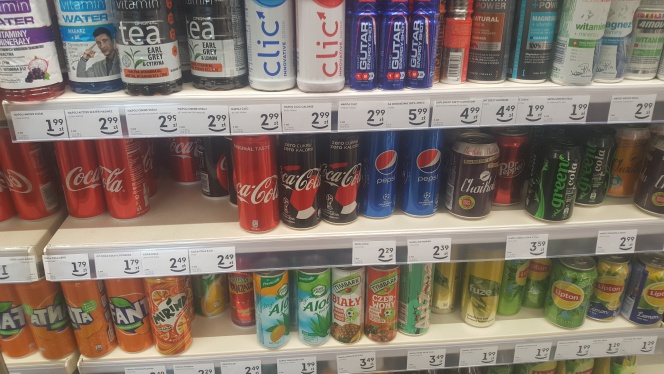cola: (1, 123, 58, 217), (97, 136, 151, 214), (233, 136, 276, 229), (56, 139, 106, 216), (161, 138, 201, 185)
colazero: (280, 133, 322, 230), (325, 133, 366, 228), (199, 136, 231, 200)
pepsi: (403, 125, 450, 223), (362, 129, 402, 238)
